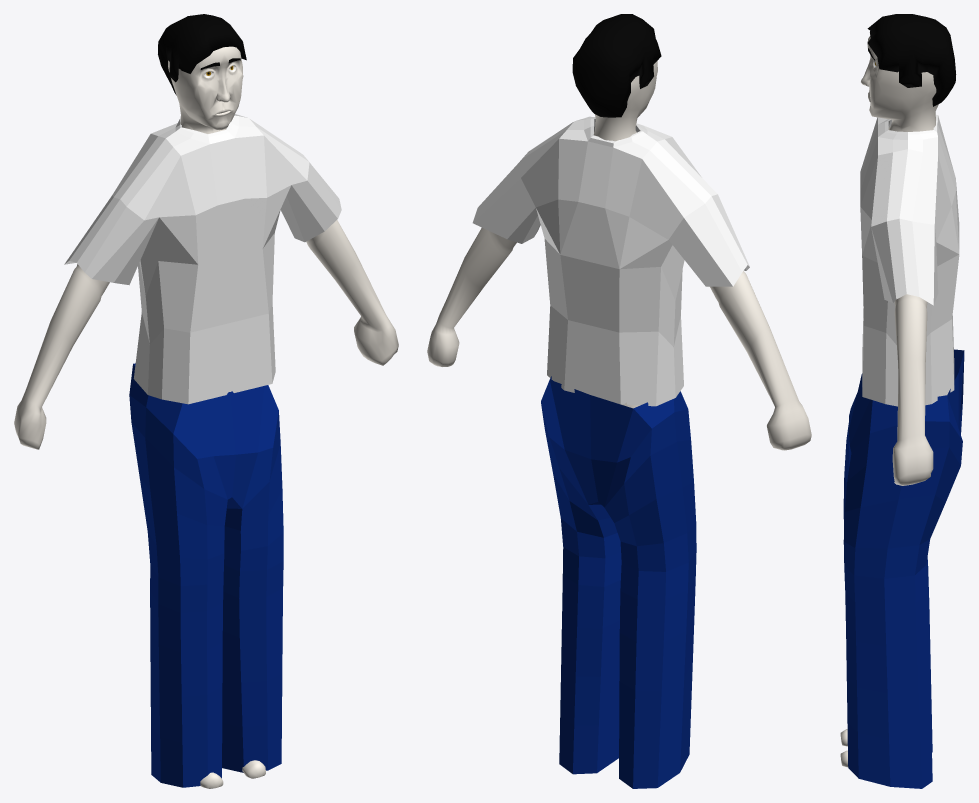
The picture shows the model from 3 angles, left to right: view 1: azimuth 30°, elevation 25°; view 2: azimuth 150°, elevation 25°; view 3: azimuth 270°, elevation 25°; orthographic projection.
Visible parts, largest first — view 1: head; view 2: head; view 3: head.
Part boxes in pixels (x1=…): head: x1=14, y1=14, x2=398, y2=788; head: x1=427, y1=14, x2=811, y2=788; head: x1=840, y1=14, x2=964, y2=788.
Size of the model in its own units: 5.09 by 1.45 by 9.62.
